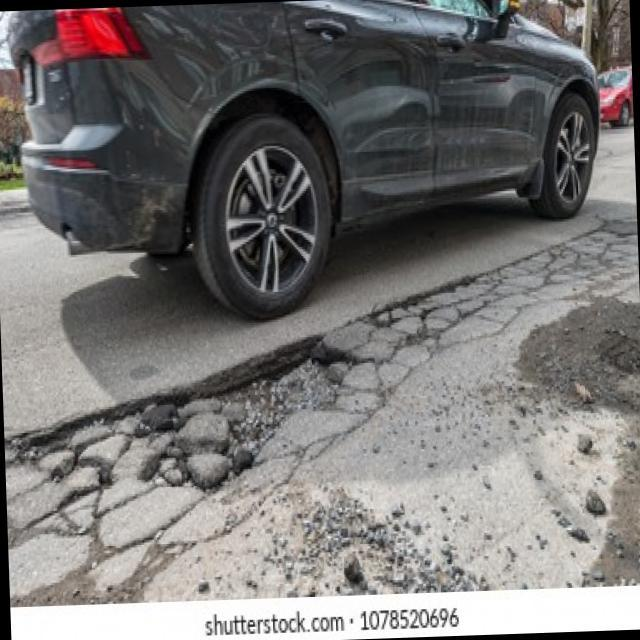Pothole: (158, 332, 357, 486)
